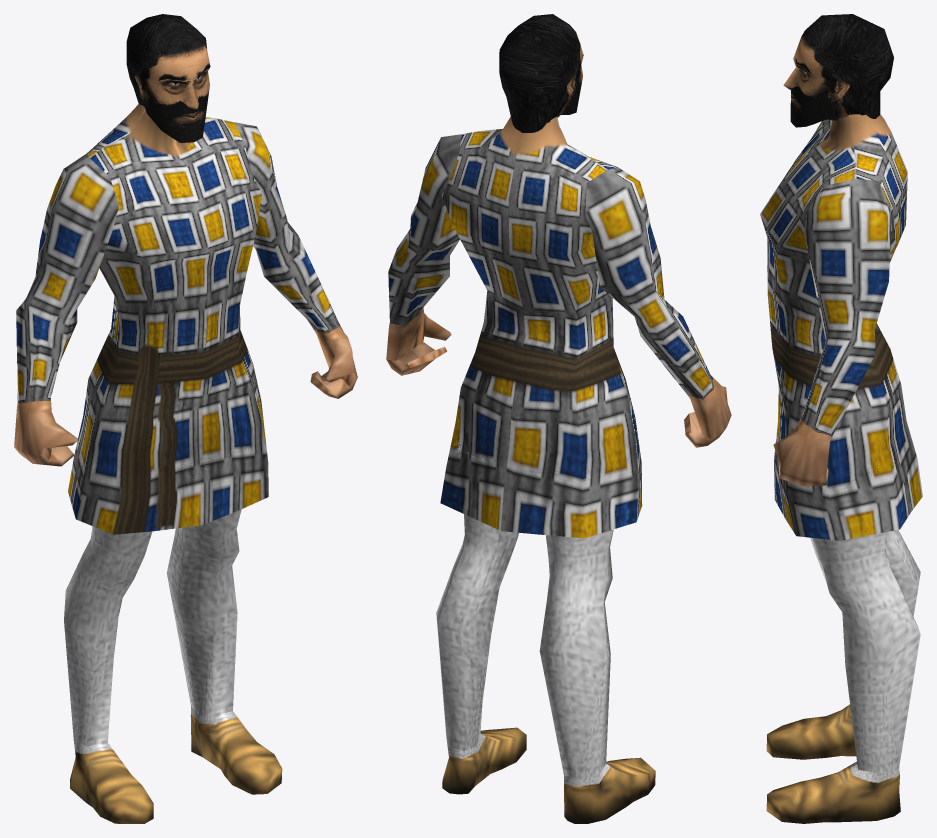
File: token-fisher.glb
The picture shows the model from 3 angles, left to right: view 1: azimuth 30°, elevation 25°; view 2: azimuth 150°, elevation 25°; view 3: azimuth 270°, elevation 25°; orthographic projection.
Bounding box in the file's own units: 0.1897 × 0.42 × 0.0811.
1 material, 1 textured.
